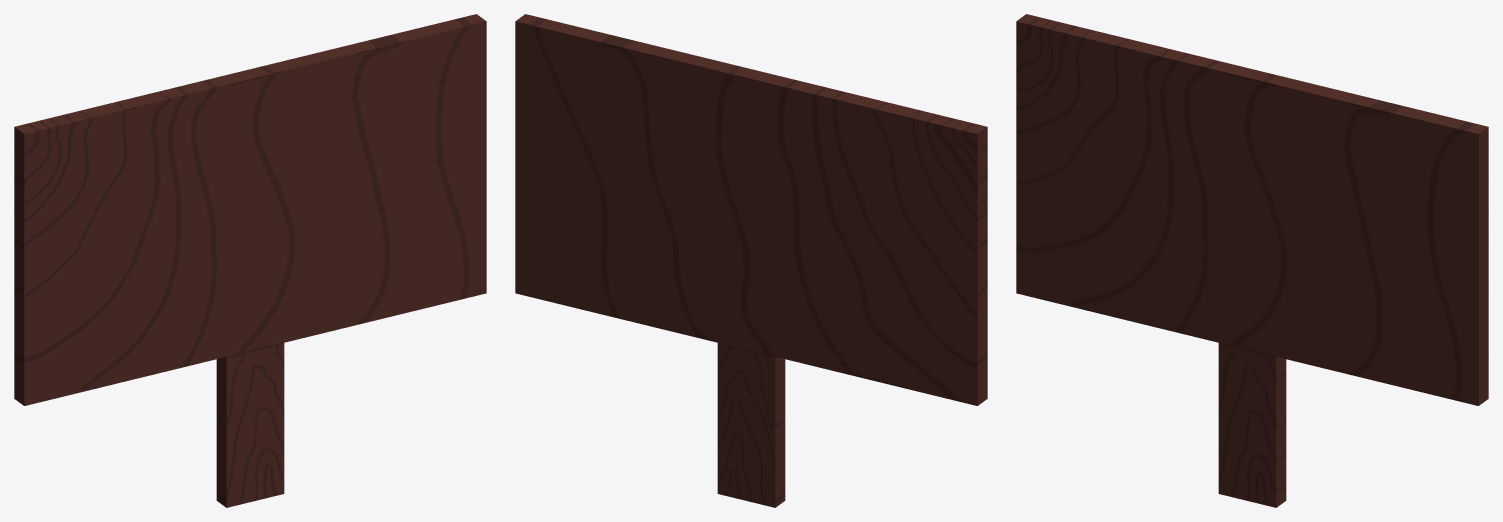
Rendered from signboard_001.fbx.
3 renders of one model, left to right at view 1: azimuth 30°, elevation 25°; view 2: azimuth 150°, elevation 25°; view 3: azimuth 330°, elevation 25°, orthographic.
Visible parts, largest first — view 1: Cube; view 2: Cube; view 3: Cube.
Part boxes in pixels (x1,y1,x2,y2): Cube: (14, 14, 486, 507); Cube: (515, 14, 987, 507); Cube: (1016, 14, 1488, 507).
Bounding box in the file's own units: 1600 × 1400 × 60.
Materials: 1 (1 with a texture image).
